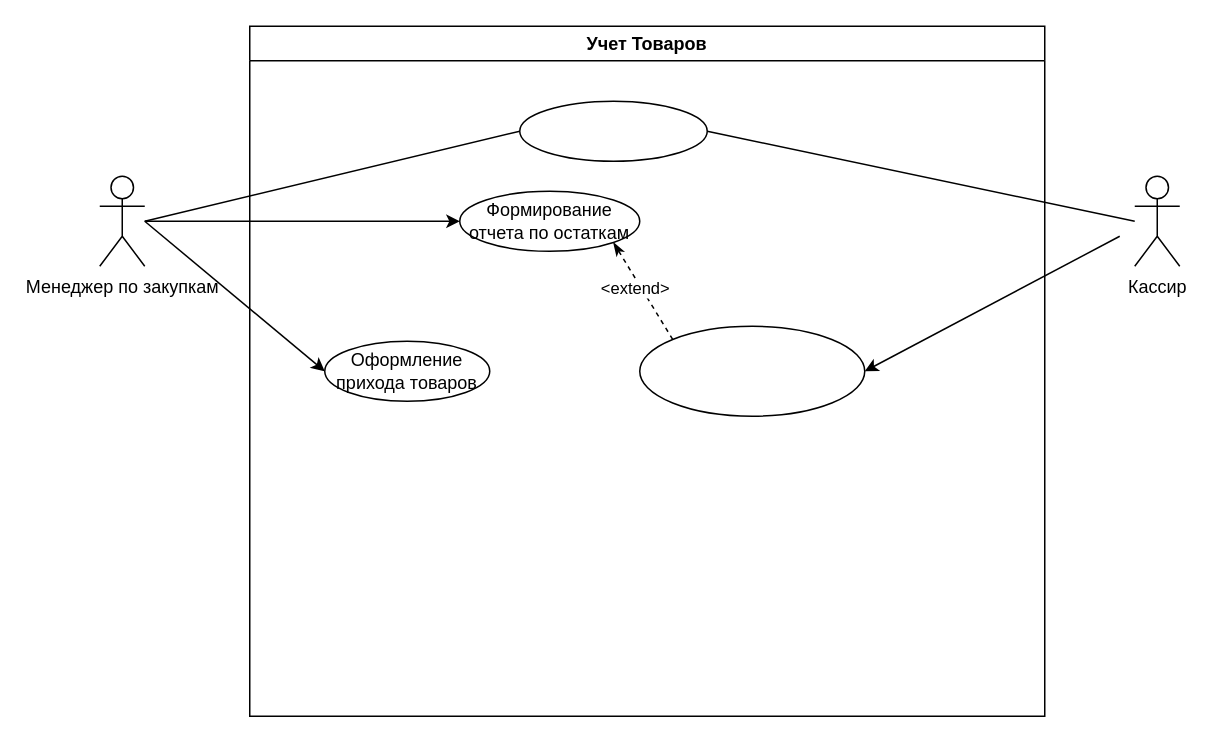
Image size: 1212x743. Some labels were removed from this diagram. Each missing label, with the box of its shape:
Авторизация: (518, 100, 707, 161)
Оформление продажи товара: (638, 325, 865, 416)
